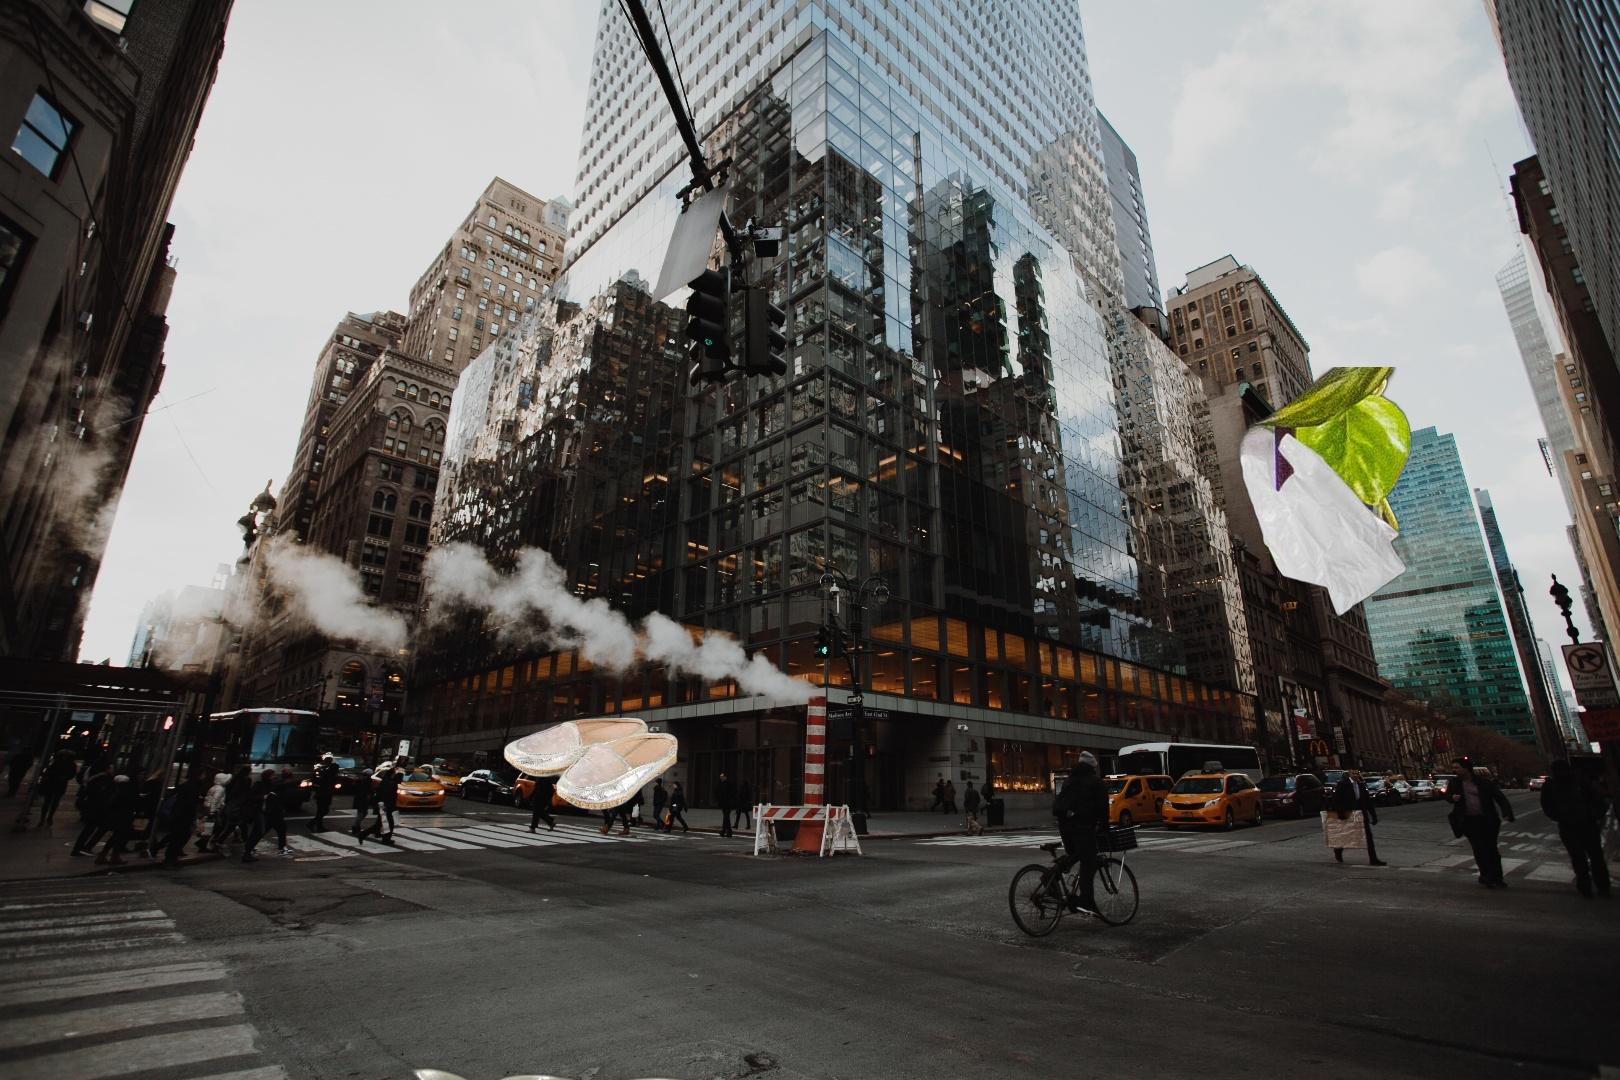battery: (336, 1063, 718, 1080)
plastic-bag: (1211, 367, 1420, 667)
shoes: (501, 715, 680, 813)
